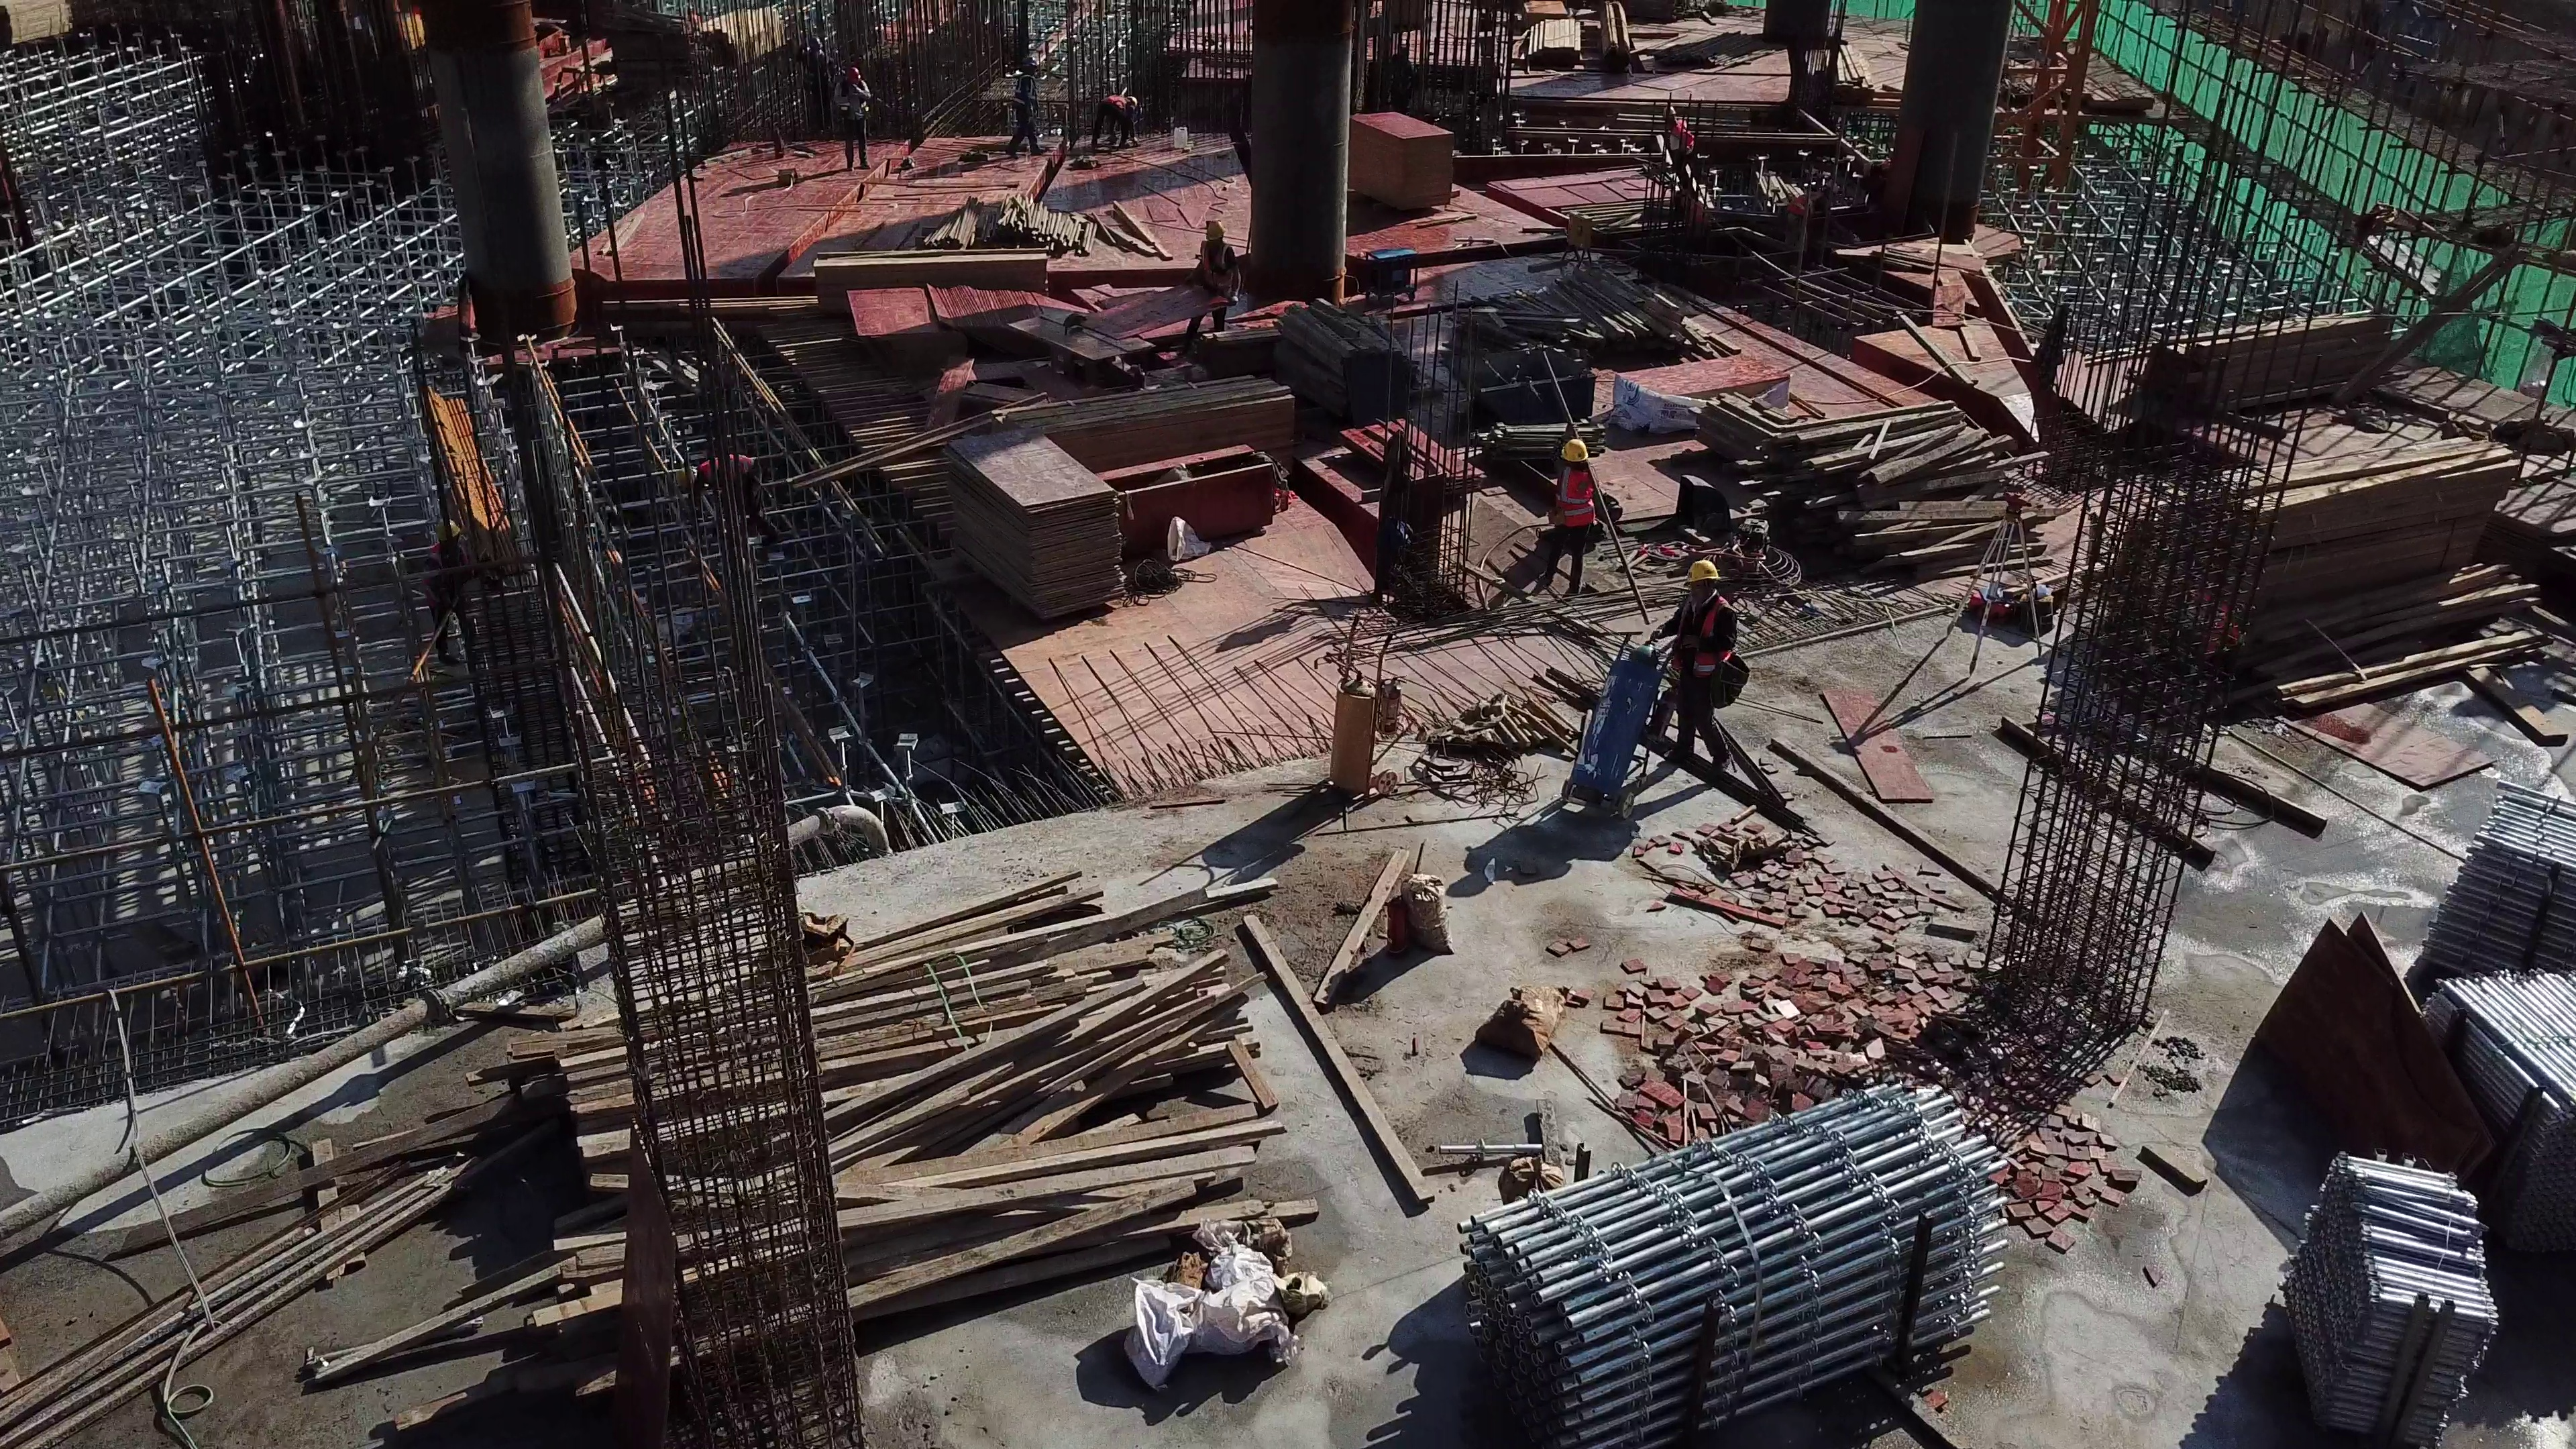board: (941, 426, 1128, 619), (1350, 113, 1458, 209), (1639, 355, 1786, 423)
cutter: (1010, 314, 1148, 370)
ebox: (1566, 217, 1593, 264)
helmet: (1683, 558, 1719, 587), (1560, 437, 1586, 464), (1205, 219, 1224, 237), (843, 67, 861, 83)
hopper: (1450, 353, 1595, 419)
person: (1648, 559, 1737, 773), (1532, 441, 1603, 594), (676, 453, 780, 546), (420, 519, 485, 664), (1186, 222, 1238, 339), (2182, 584, 2243, 682), (835, 68, 875, 173), (799, 40, 837, 136), (1007, 58, 1041, 160), (1091, 92, 1139, 154), (1662, 104, 1693, 184), (1782, 189, 1820, 234)
scaffold: (1458, 1083, 1989, 1430), (2300, 1147, 2487, 1442), (2424, 967, 2576, 1183), (2435, 783, 2576, 983)
vest: (1686, 596, 1725, 677), (1558, 467, 1594, 528), (699, 454, 756, 486), (1198, 239, 1230, 294), (1014, 72, 1033, 111), (1671, 118, 1688, 155), (1107, 94, 1129, 108)
wood: (2166, 435, 2507, 633), (989, 376, 1299, 480), (2165, 303, 2378, 400), (1289, 301, 1401, 401), (811, 251, 1049, 292), (708, 11, 777, 62), (1, 1, 67, 46), (1529, 19, 1579, 68)
